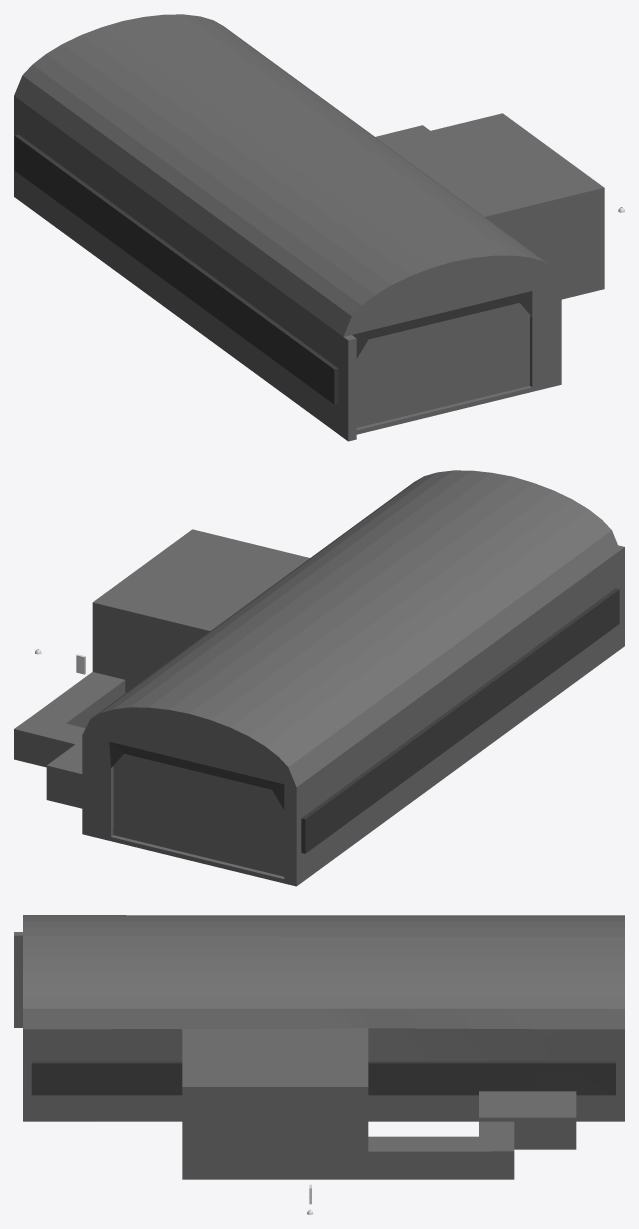
The model's file is Hangar_Richtig V.0.7.7 (animation test) .fbx.
3 views of the same model, one above another, from view 1: azimuth 30°, elevation 25°; view 2: azimuth 150°, elevation 25°; view 3: azimuth 270°, elevation 25° (orthographic). The views are drawn at different scales.
Parts seen in each view (by area): view 1: Hangar_Nebenraum_Lager_001, Hangar Tor 2 (Einfahrt); view 2: Hangar_Nebenraum_Lager_001, Hangar Tor 2 (Einfahrt).001; view 3: Hangar_Nebenraum_Lager_001.
Part boxes in pixels (left/top/right/bottom): Hangar_Nebenraum_Lager_001: left=14, top=14, right=604, bottom=441; Hangar Tor 2 (Einfahrt): left=356, top=303, right=529, bottom=427; Hangar_Nebenraum_Lager_001: left=14, top=470, right=624, bottom=886; Hangar Tor 2 (Einfahrt).001: left=113, top=754, right=284, bottom=876; Hangar_Nebenraum_Lager_001: left=14, top=915, right=624, bottom=1179.
Size of the model in its own units: 5272 by 1748 by 6900.
5 materials, 5 textured.
